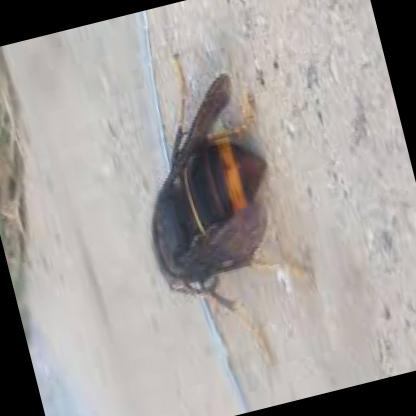asian: (99, 78, 324, 362)
